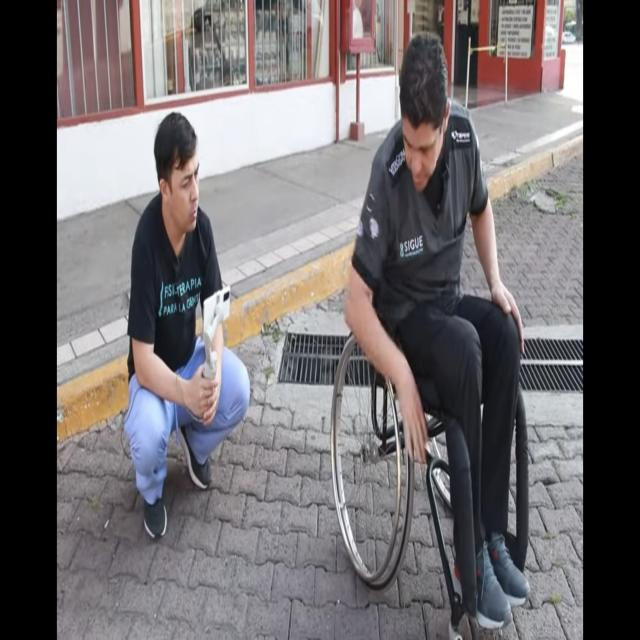wheelchairs: (330, 201, 529, 640)
